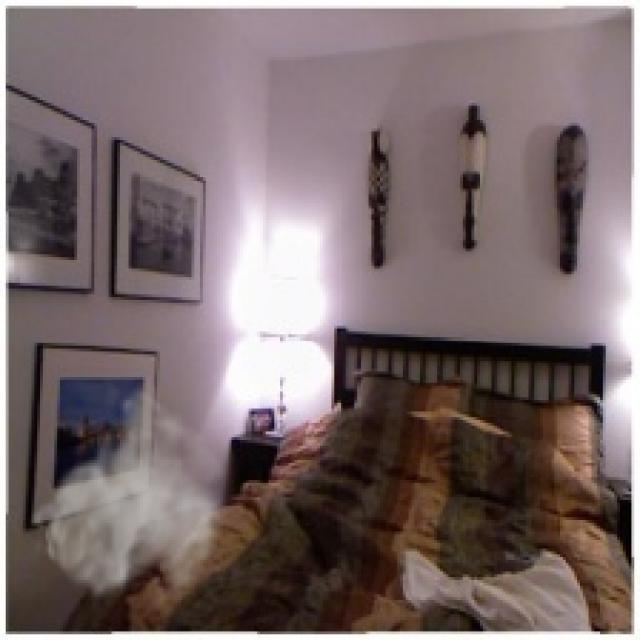Smoke: (28, 371, 232, 620)
